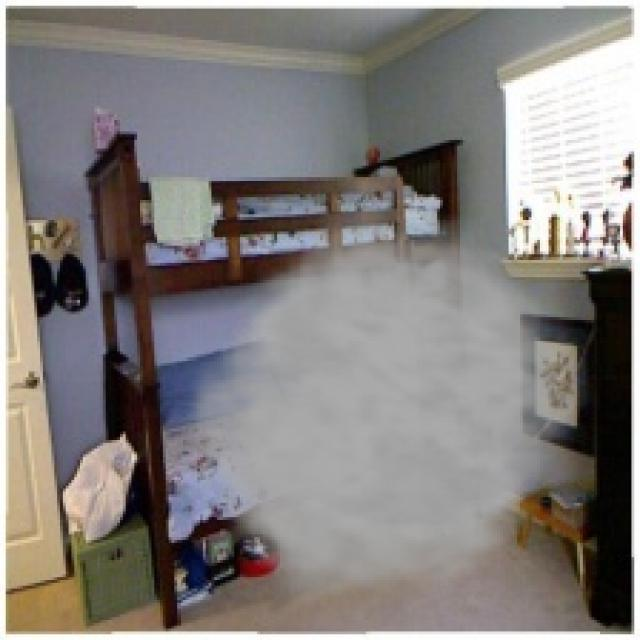Smoke: (175, 214, 600, 617)
